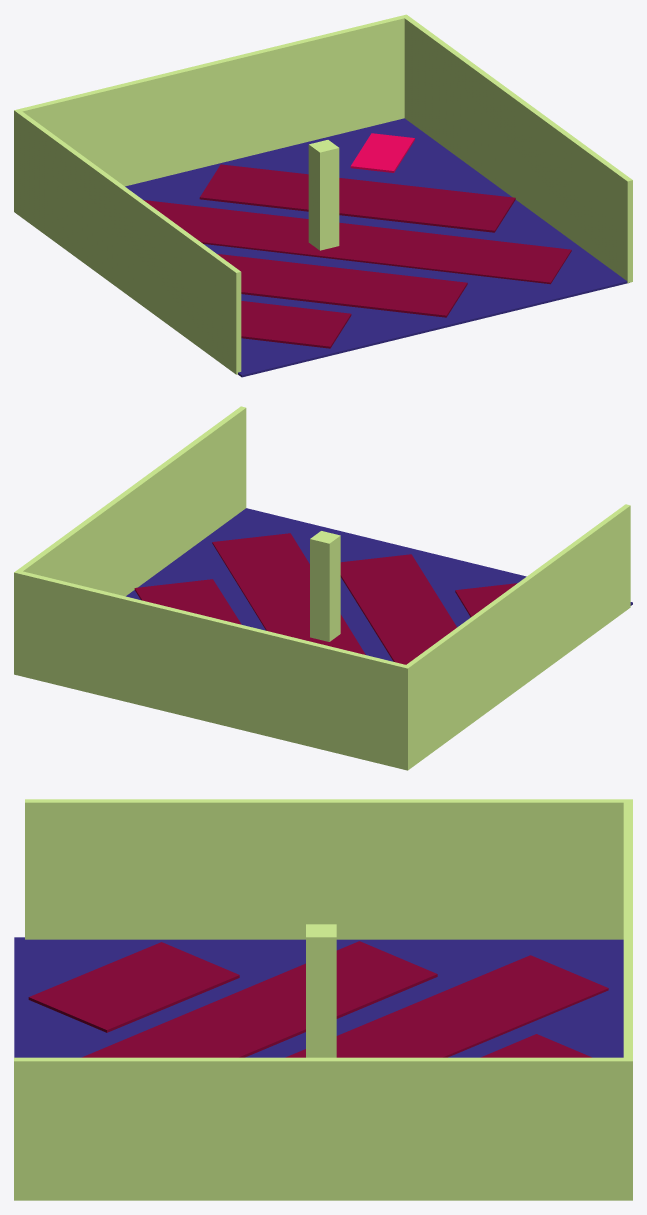
Rendered from musolla.glb.
3 views of the same model, one above another, from view 1: azimuth 30°, elevation 25°; view 2: azimuth 150°, elevation 25°; view 3: azimuth 270°, elevation 25° (orthographic). The views are drawn at different scales.
Visible parts, largest first — view 1: Wall-col.001, Saf, Floor-col.003, pillar-col, Sejadah; view 2: Wall-col.001, Saf, Floor-col.003, pillar-col; view 3: Wall-col.001, Saf, Floor-col.003, pillar-col.
Part boxes in pixels (box(x1,y1,x2,y2)): Wall-col.001: box(14, 14, 632, 374); Saf: box(143, 164, 571, 348); Floor-col.003: box(125, 118, 629, 377); pillar-col: box(308, 140, 339, 250); Sejadah: box(350, 133, 414, 172); Wall-col.001: box(14, 406, 630, 770); Saf: box(134, 533, 517, 664); Floor-col.003: box(126, 508, 632, 661); pillar-col: box(310, 531, 340, 641); Wall-col.001: box(14, 799, 632, 1200); Saf: box(28, 941, 608, 1057); Floor-col.003: box(14, 937, 623, 1057); pillar-col: box(306, 924, 336, 1057).
Size of the model in its own units: 20.2 by 5.01 by 20.16.
1 material, 1 textured.
